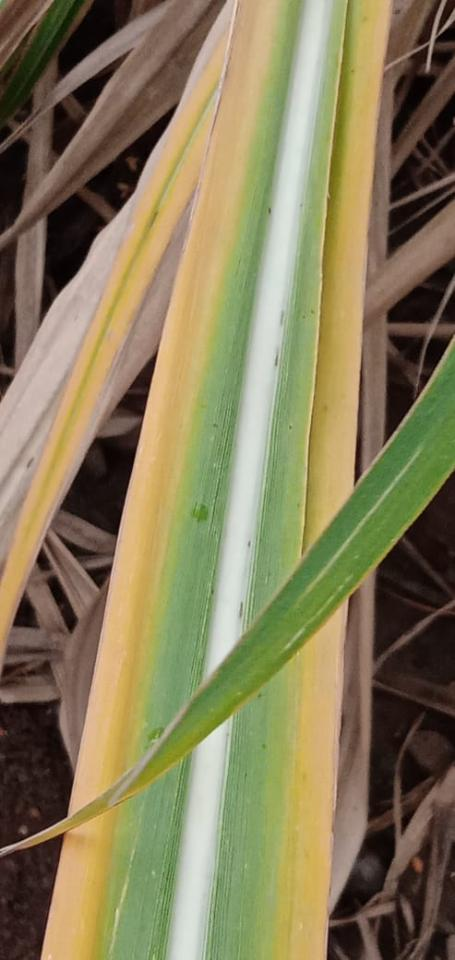Rust: (237, 600, 244, 620), (279, 309, 286, 326), (272, 353, 280, 367), (302, 312, 308, 321), (212, 422, 219, 429), (288, 423, 294, 431), (248, 540, 253, 548), (268, 206, 272, 215), (310, 309, 316, 315), (299, 203, 304, 208)
Yellow: (68, 0, 283, 816), (0, 27, 228, 672), (305, 0, 394, 554), (273, 601, 347, 959), (41, 804, 121, 959)
